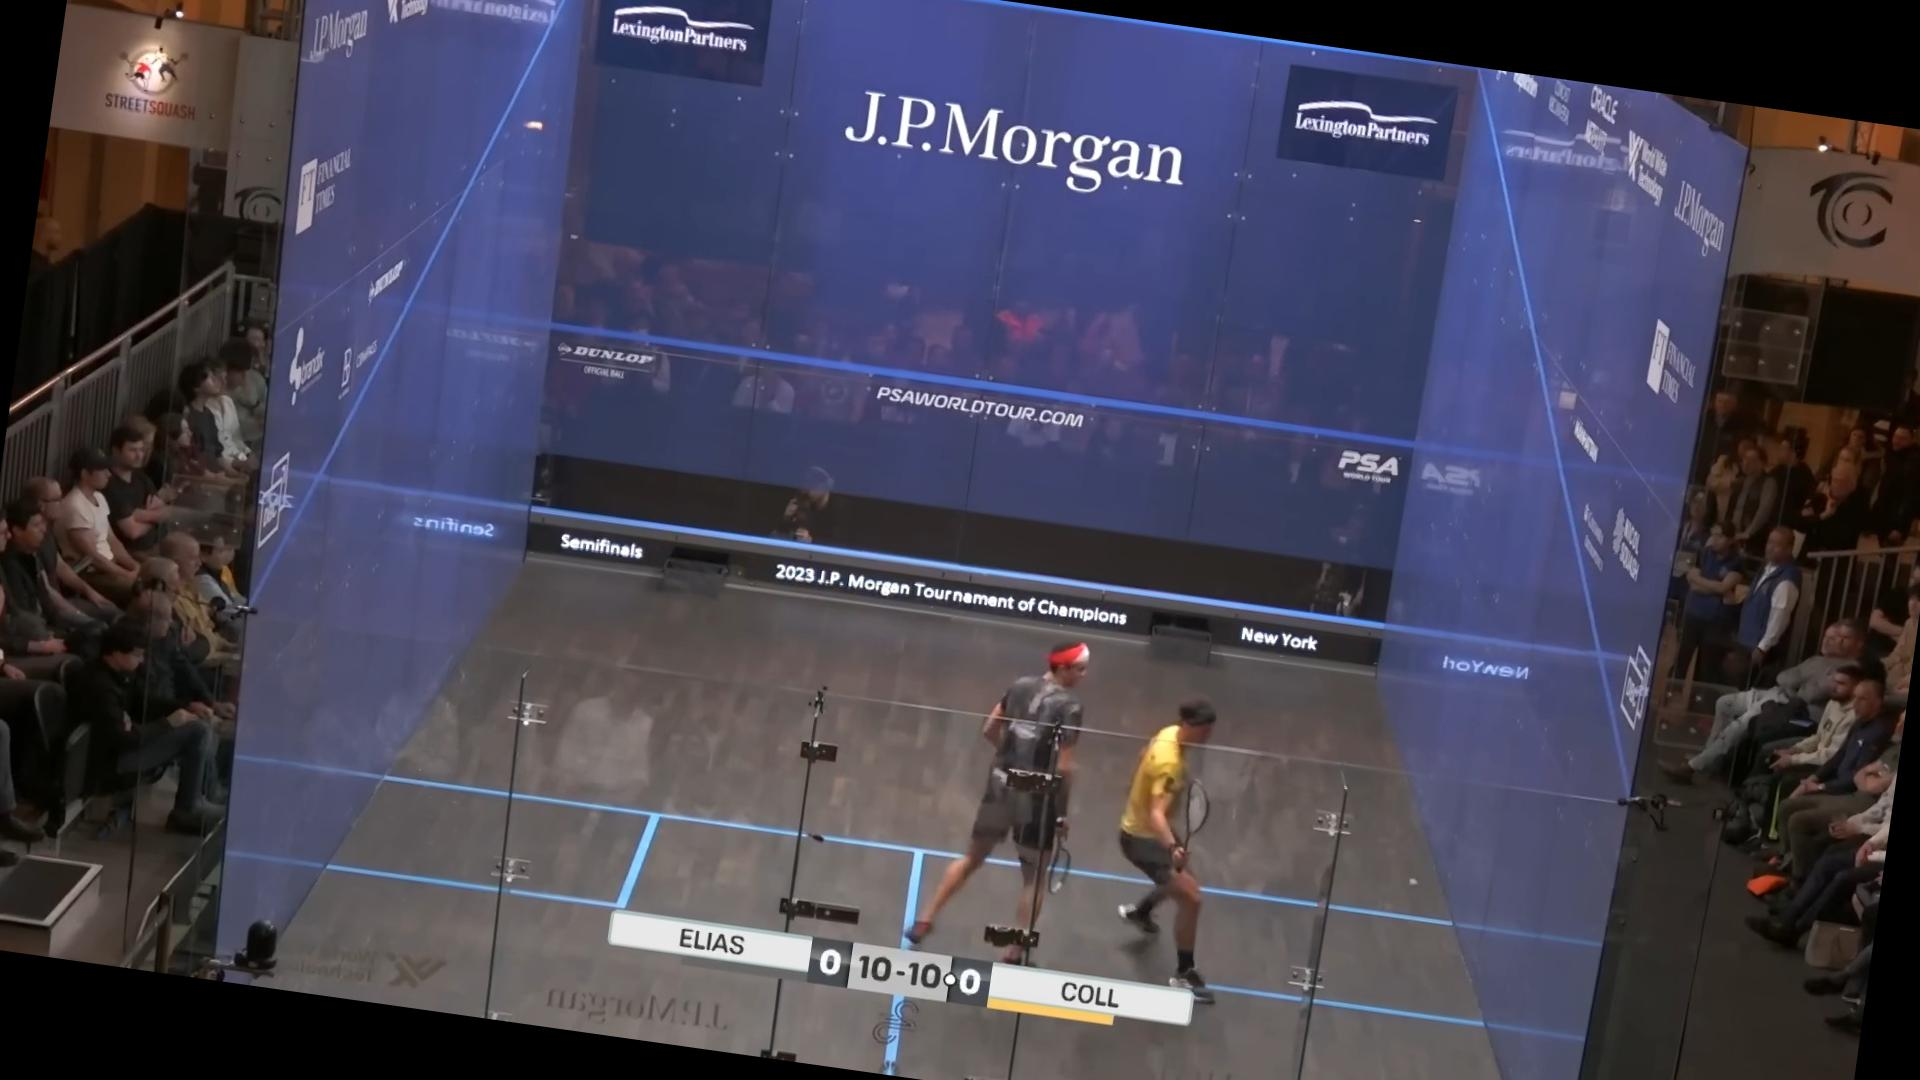Racket: (1167, 771, 1224, 861), (1036, 820, 1087, 916)
